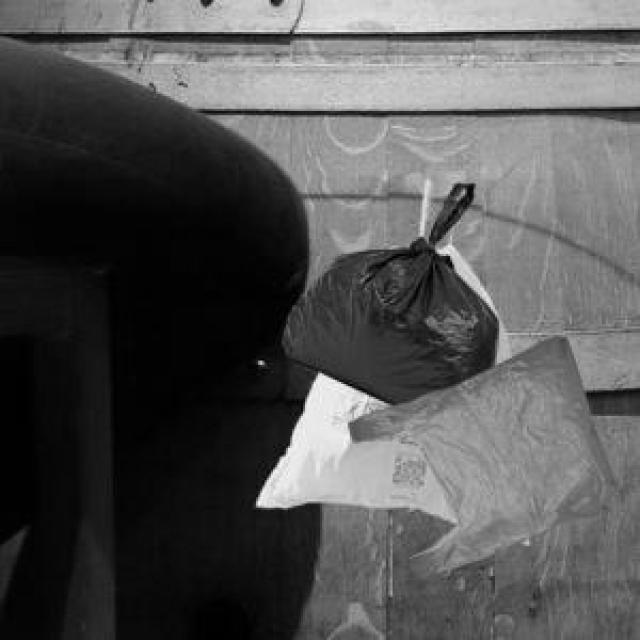miscellaneous trash: (277, 179, 495, 401)
